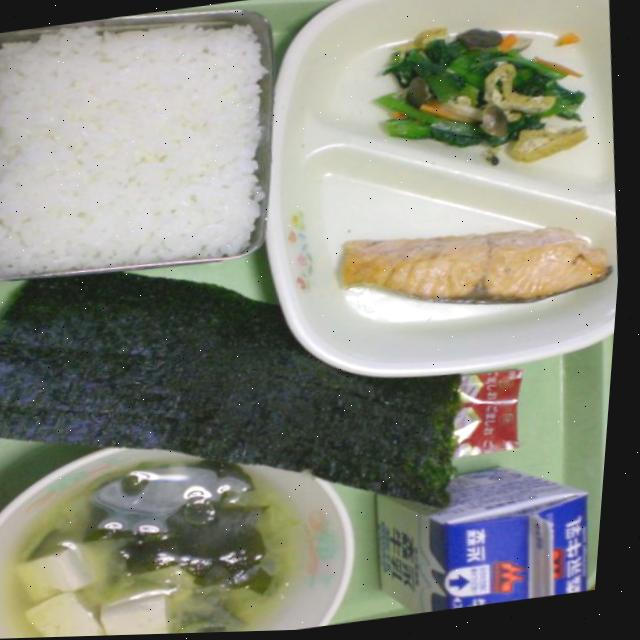熟制海鲜: (309, 206, 627, 337)
